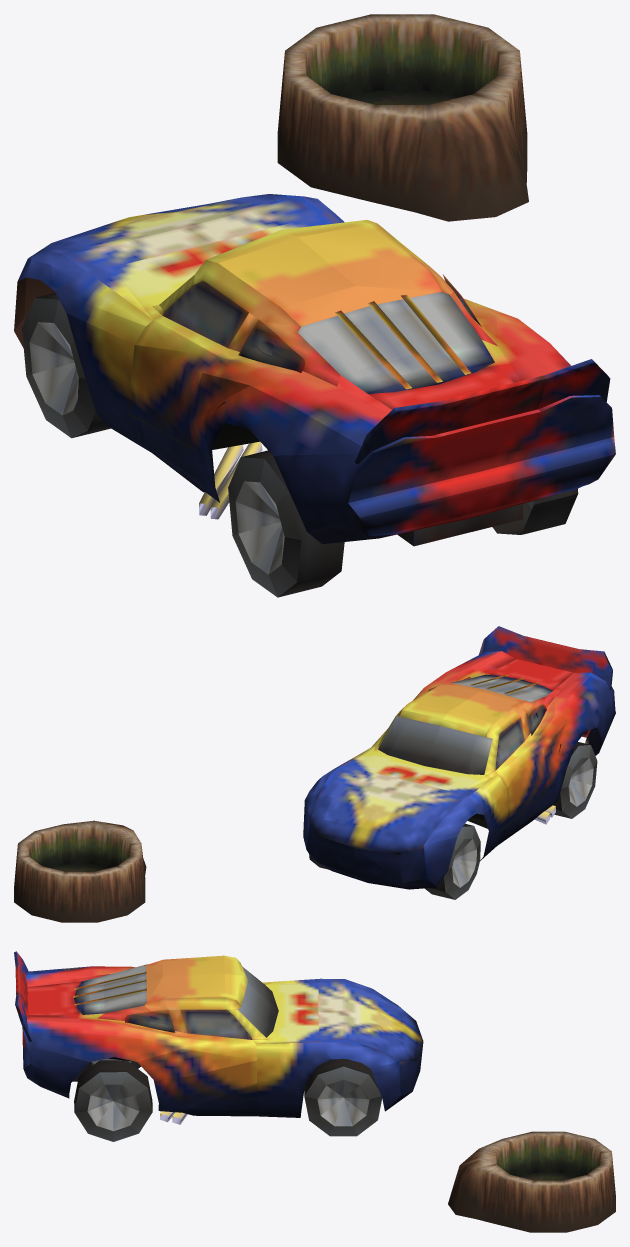
The model's file is batch_0000.obj.
The picture shows the model from 3 angles, top to bottom: view 1: azimuth 30°, elevation 25°; view 2: azimuth 150°, elevation 25°; view 3: azimuth 270°, elevation 25°; orthographic projection. The views are drawn at different scales.
Visible parts, largest first — view 1: batch_0000; view 2: batch_0000; view 3: batch_0000.
Part boxes in pixels (x1,y1,x2,y2): batch_0000: [14, 14, 615, 597]; batch_0000: [14, 626, 615, 922]; batch_0000: [14, 951, 615, 1232].
Size of the model in its own units: 69.08 by 24.12 by 100.
1 material, 1 textured.
